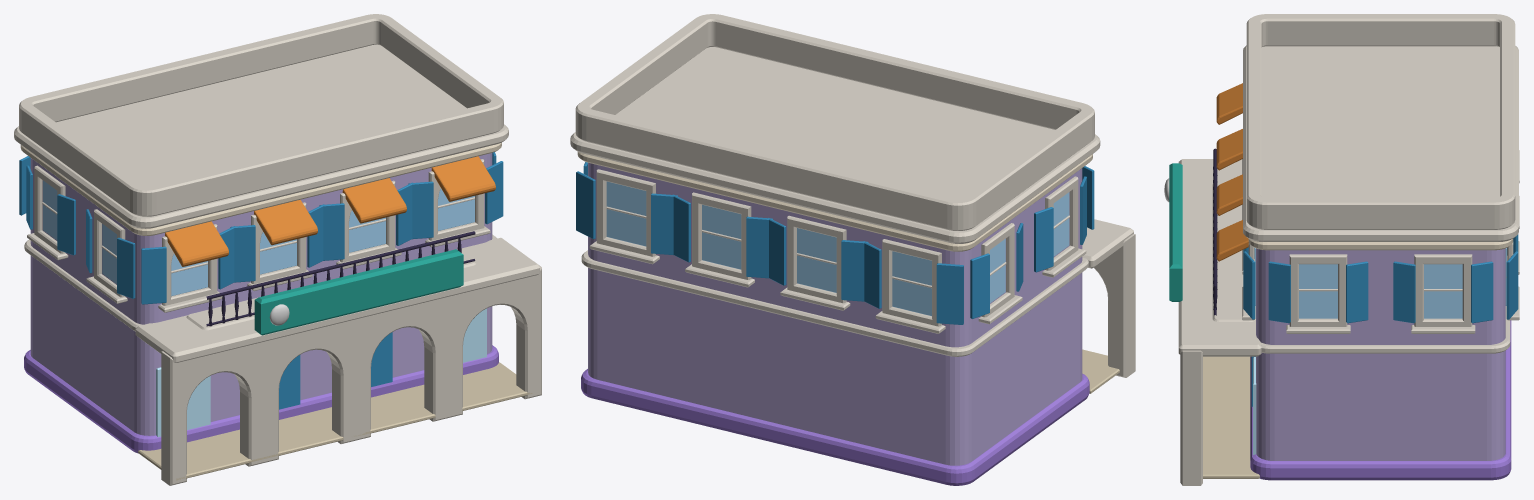
Rendered from comercio_m.glb.
3 views of the same model, side by side, from view 1: azimuth 30°, elevation 25°; view 2: azimuth 150°, elevation 25°; view 3: azimuth 270°, elevation 25° (orthographic). The views are drawn at different scales.
Parts seen in each view (by area): view 1: comercio_m_corpo, comercio_m_vidro; view 2: comercio_m_corpo, comercio_m_vidro; view 3: comercio_m_corpo, comercio_m_vidro.
Boxes of the visible parts, x1,y1,x2,y2 form: comercio_m_corpo: [14, 14, 541, 485]; comercio_m_vidro: [43, 180, 486, 437]; comercio_m_corpo: [570, 14, 1135, 485]; comercio_m_vidro: [606, 181, 1069, 316]; comercio_m_corpo: [1164, 14, 1519, 485]; comercio_m_vidro: [1253, 248, 1506, 454].
Size of the model in its own units: 12.14 by 8.24 by 9.4.
